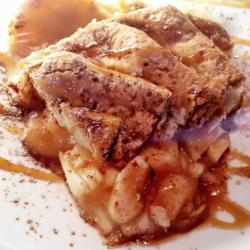apple_pie: (29, 16, 242, 232)
